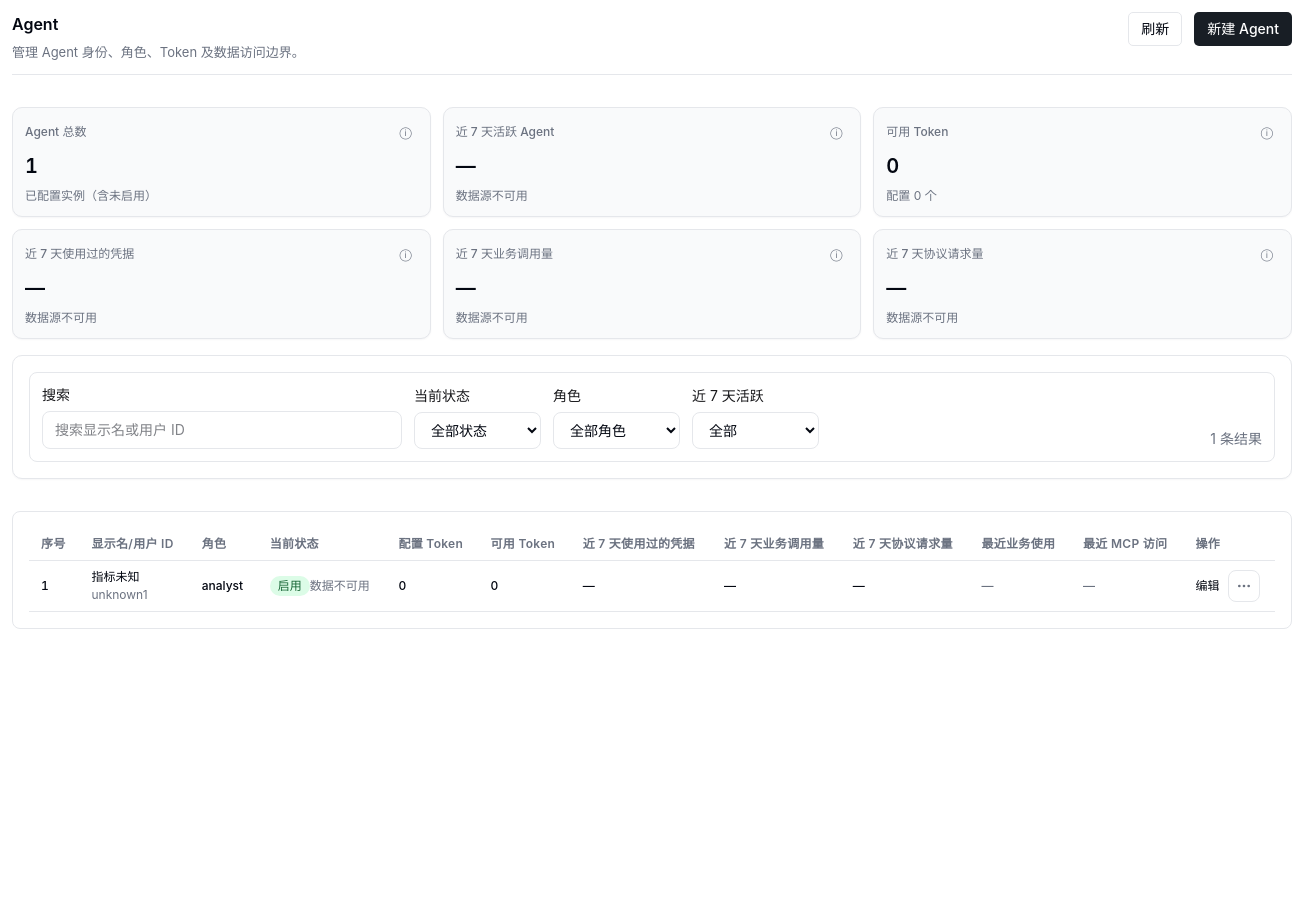
Test case: AgentList › renders unavailable row metrics as dashes and does not classify the row as inactive
Expected: the row with test id "agent-row-unknown1" is shown, [29,560,1275,612]
Expected: the cell with test id "agent-calls-7d-unknown1" reads "—", [724,578,736,593]
Select "无业务调用" in the dropdown labelled "近 7 天活跃" at (756, 430), box [692,412,819,449]
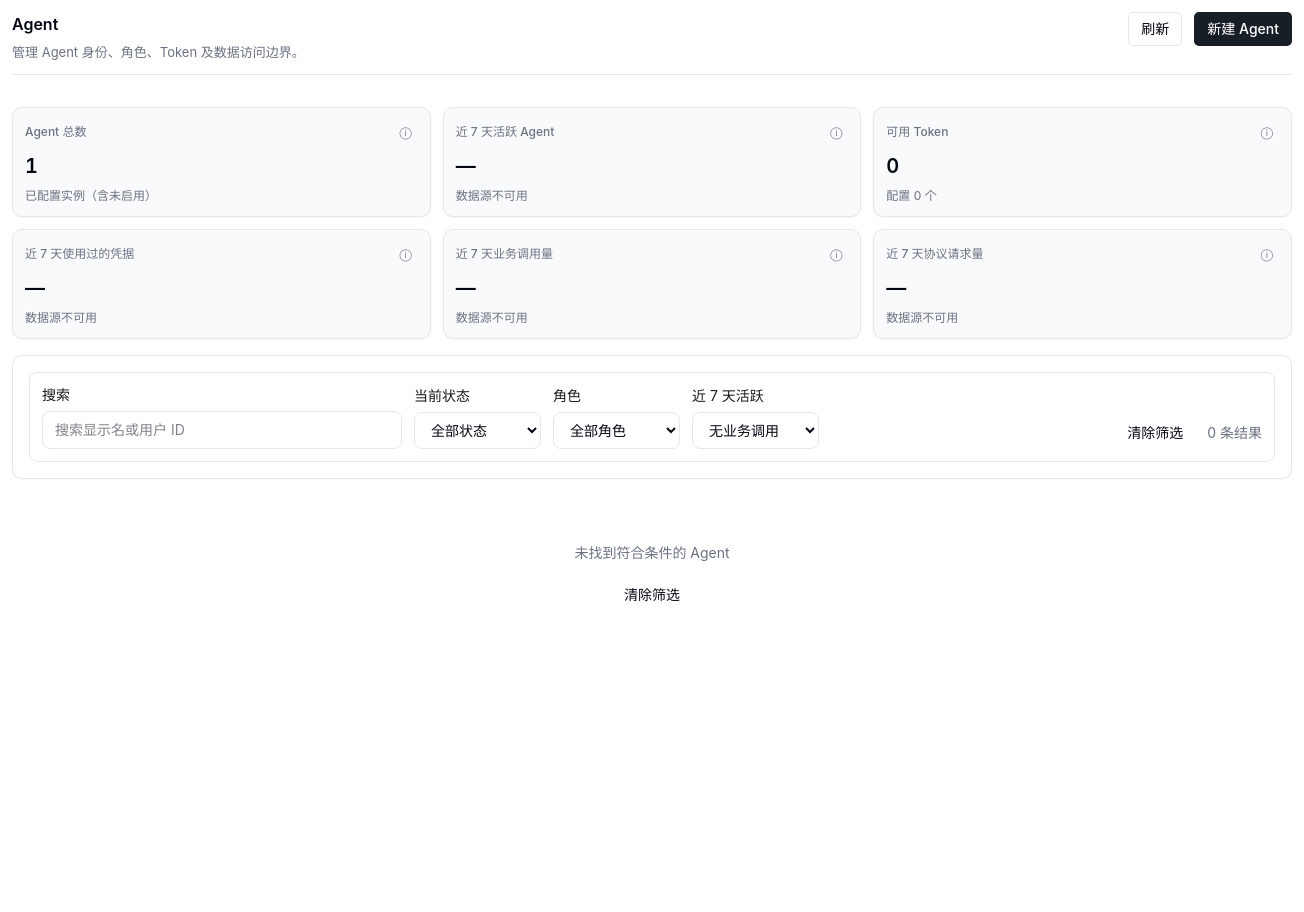
Expected: the row with test id "agent-row-unknown1" is gone
